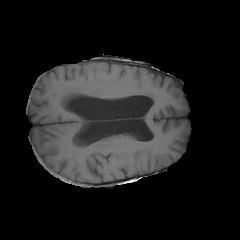glioma: (59, 77, 157, 99)
